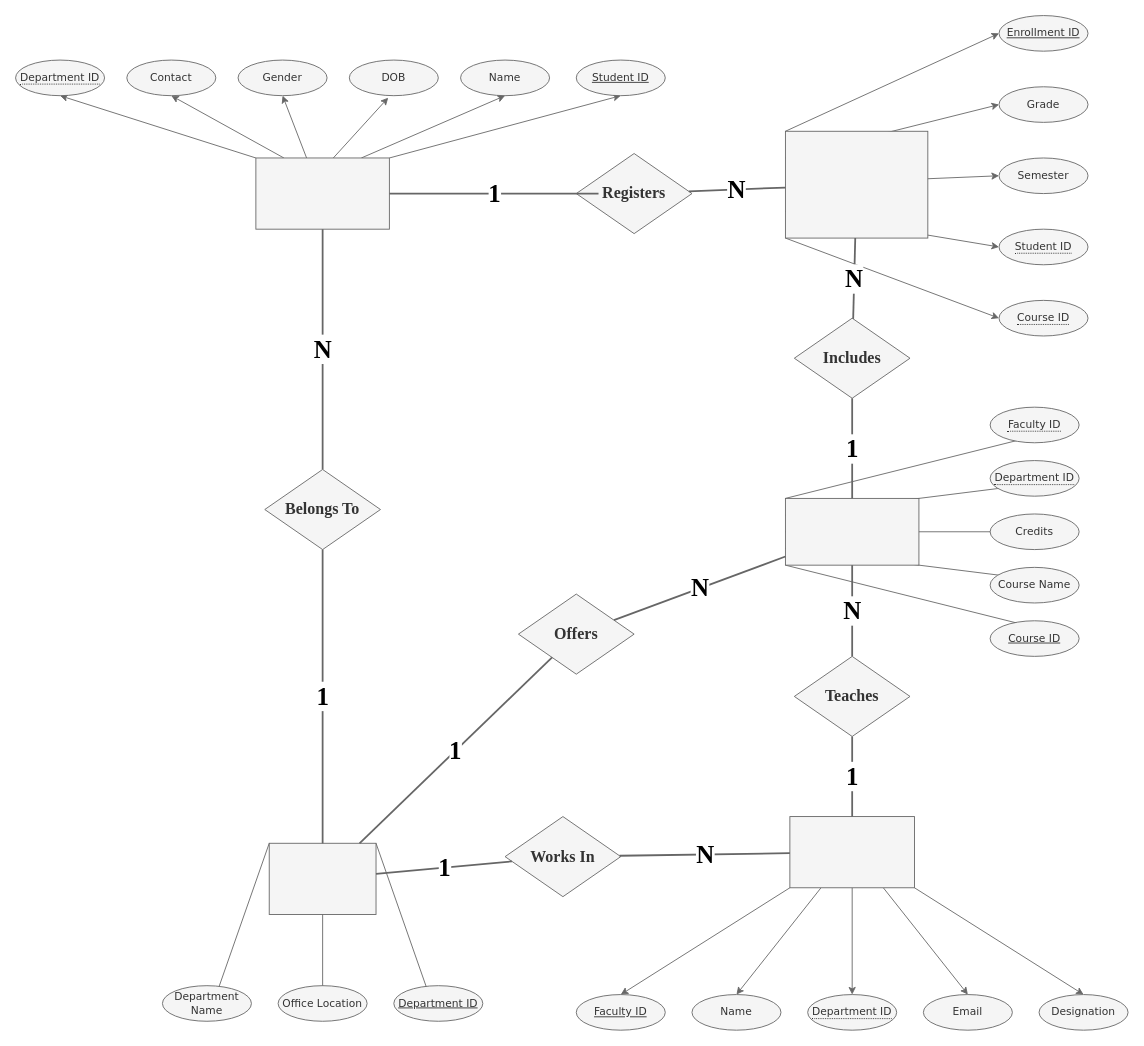
The diagram is 1144 pixels wide and 1046 high, and some of its shapes have lost their labels. The shapes that lost their labels are listed below. From the top down, each one's centre as x and y in pixels, then its label:
At [322,193]: "Student".
At [856,184]: "Enrollment".
At [852,531]: "Course".
At [851,852]: "Faculty".
At [322,878]: "Department".
